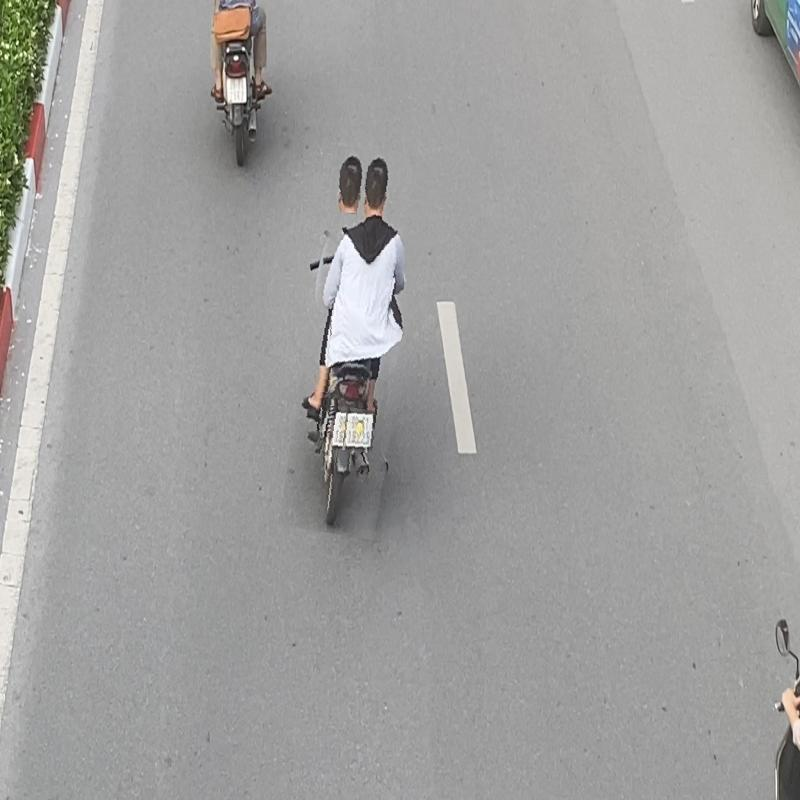licenseplate: (344, 408, 376, 452)
motorcyclist: (292, 148, 419, 538)
nohelmet: (334, 150, 368, 214)
